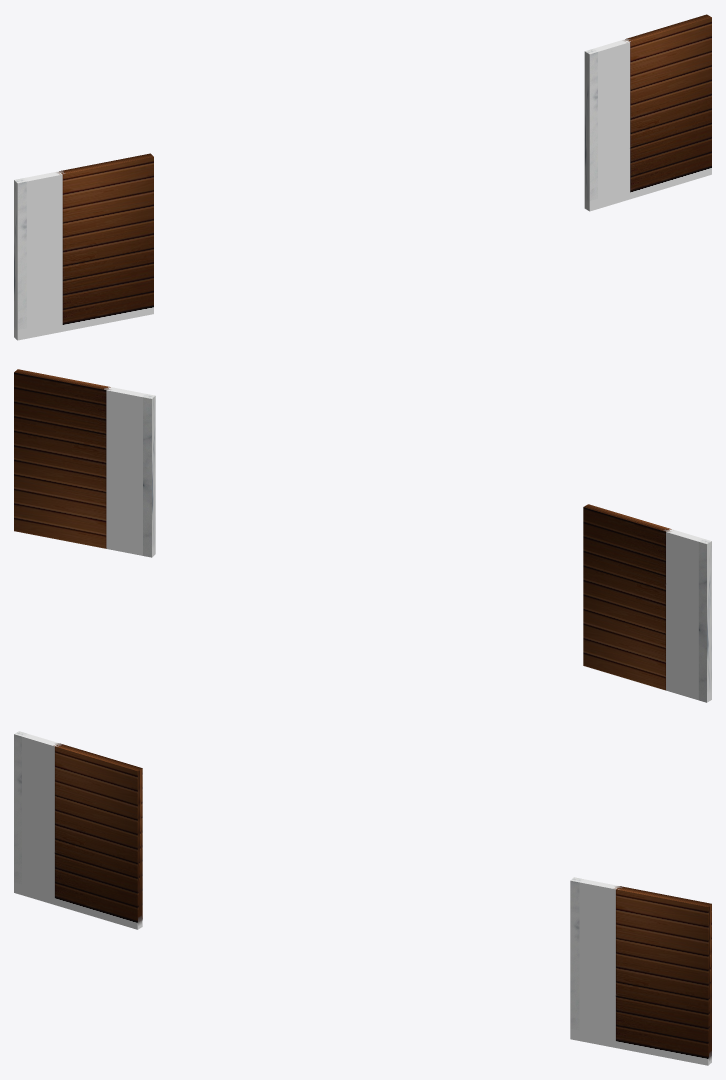
Rendered from unit1doors.fbx.
The picture shows the model from 3 angles, top to bottom: view 1: azimuth 30°, elevation 25°; view 2: azimuth 150°, elevation 25°; view 3: azimuth 330°, elevation 25°; orthographic projection.
Visible parts, largest first — view 1: pCube6, pCube7; view 2: pCube7, pCube6; view 3: pCube7, pCube6.
Boxes of the visible parts, x1,y1,x2,y2 form: pCube6: (14, 153, 153, 340); pCube7: (584, 14, 711, 211); pCube7: (14, 369, 155, 557); pCube6: (583, 504, 711, 702); pCube7: (570, 877, 711, 1065); pCube6: (14, 731, 142, 929).
Size of the model in its own units: 8.22 by 1.79 by 0.3039.
1 material, 1 textured.
